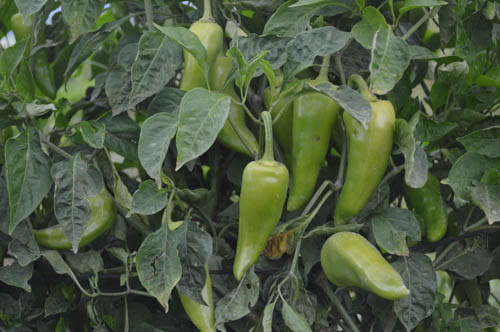ChiliPepper: (337, 98, 396, 224), (281, 88, 339, 212), (317, 230, 414, 304), (229, 162, 288, 278), (162, 223, 220, 332), (209, 56, 259, 152), (36, 195, 116, 254), (179, 22, 221, 101), (409, 173, 449, 246), (260, 85, 292, 150)
